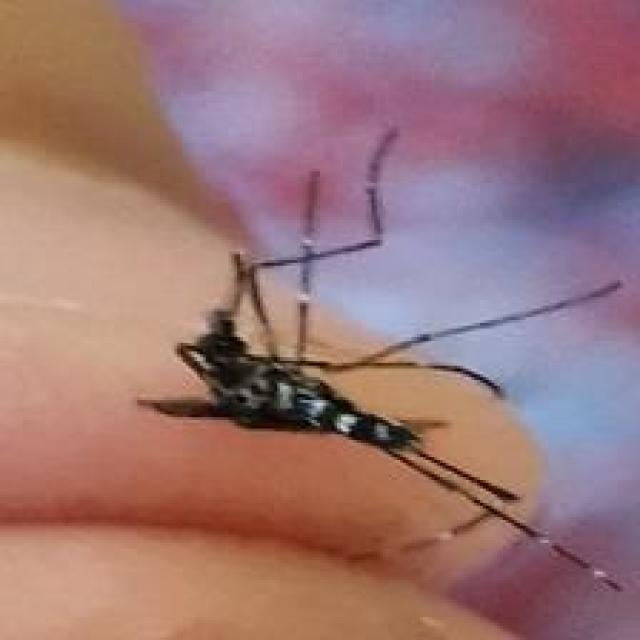Aedes albopictus: (136, 127, 627, 596)
